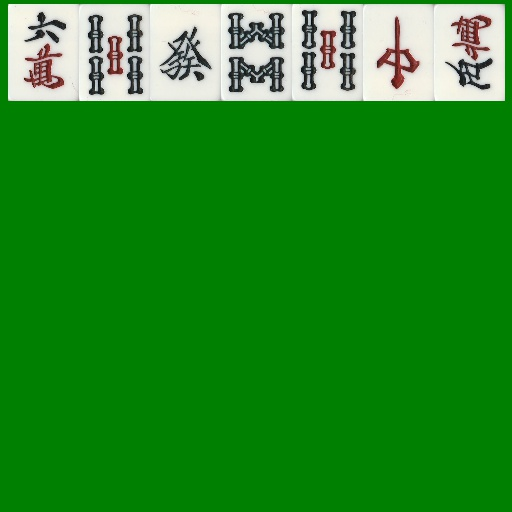5m: (434, 4, 505, 101)
5s: (79, 4, 150, 101), (292, 4, 363, 101)
6m: (8, 4, 79, 101)
8s: (221, 4, 292, 101)
hatsu: (150, 4, 221, 101)
tyun: (363, 4, 434, 101)
